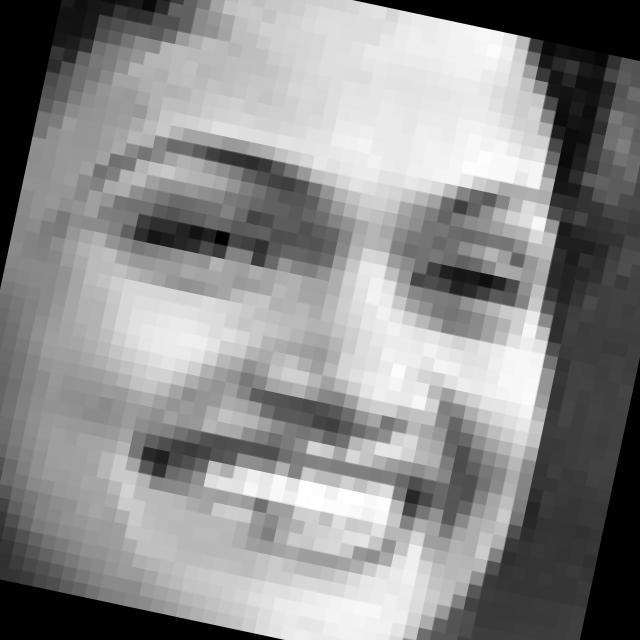happy: (0, 83, 566, 617)
